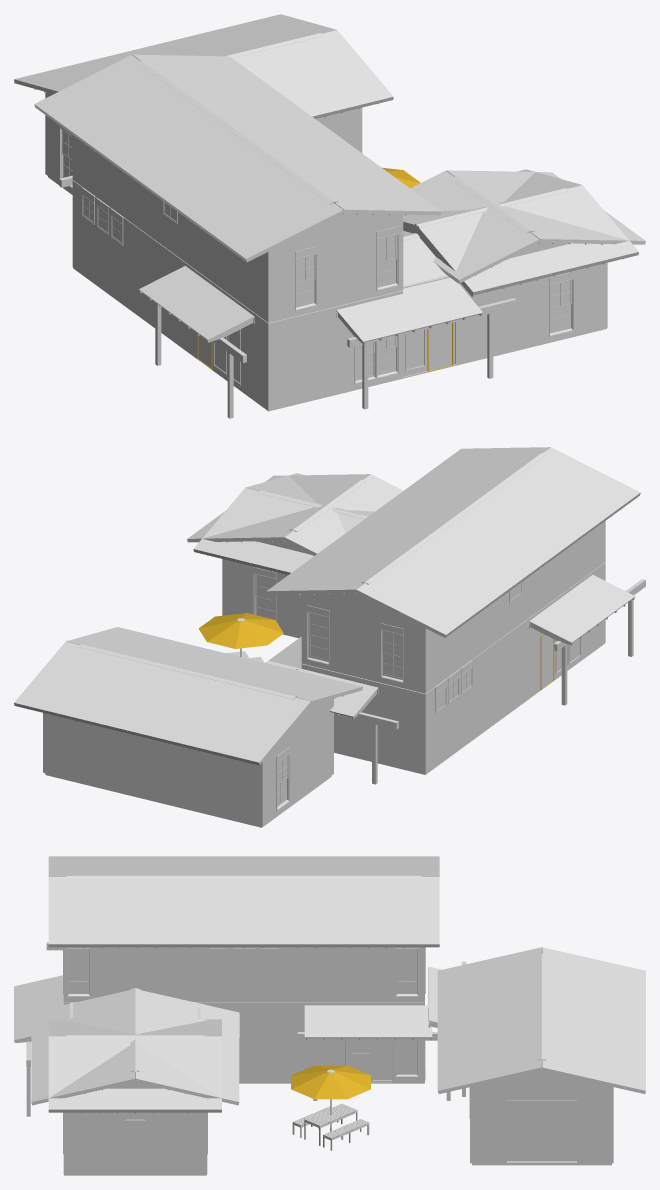
Rendered from house.glb.
3 views of the same model, one above another, from view 1: azimuth 30°, elevation 25°; view 2: azimuth 150°, elevation 25°; view 3: azimuth 270°, elevation 25° (orthographic). The views are drawn at different scales.
Visible parts, largest first — view 1: IfcRoof/Slab.002, IfcRoof/Slab.003, IfcCovering/Wall.062, IfcCovering/Wall.009, IfcRoof/Slab.001, IfcCovering/Wall.046, IfcCovering/Wall.053, IfcCovering/Wall.008, IfcCovering/Wall.044, IfcCovering/Wall.025, IfcRoof/Slab, IfcCovering/Wall.019 (+29 smaller); view 2: IfcCovering/Wall.060, IfcRoof/Slab.002, IfcRoof/Slab.012, IfcRoof/Slab.003, IfcRoof/Slab.013, IfcCovering/Wall.025, IfcCovering/Wall.010, IfcRoof/Slab.001, IfcCovering/Wall.044, IfcRoof/Slab, IfcCovering/Wall.017, IfcCovering/Wall.043 (+26 smaller); view 3: IfcCovering/Wall.011, IfcRoof/Slab.001, IfcRoof/Slab, IfcCovering/Wall.051, IfcCovering/Wall.061, IfcRoof/Slab.012, IfcRoof/Slab.011, IfcCovering/Wall.058, IfcRoof/Slab.014, IfcRoof/Slab.013, IfcRoof/Slab.018, IfcRoof/Slab.023 (+37 smaller).
Boxes of the visible parts, bbox=[...] form: IfcRoof/Slab.002: bbox=[76, 64, 330, 235]; IfcRoof/Slab.003: bbox=[34, 55, 343, 259]; IfcCovering/Wall.062: bbox=[73, 181, 268, 409]; IfcCovering/Wall.009: bbox=[268, 213, 403, 322]; IfcRoof/Slab.001: bbox=[148, 62, 399, 203]; IfcCovering/Wall.046: bbox=[268, 290, 402, 410]; IfcCovering/Wall.053: bbox=[456, 243, 607, 364]; IfcCovering/Wall.008: bbox=[72, 135, 268, 322]; IfcCovering/Wall.044: bbox=[73, 180, 268, 409]; IfcCovering/Wall.025: bbox=[73, 136, 268, 322]; IfcRoof/Slab: bbox=[132, 54, 441, 212]; IfcCovering/Wall.019: bbox=[456, 263, 607, 364]; IfcCovering/Wall.060: bbox=[43, 713, 262, 826]; IfcRoof/Slab.002: bbox=[366, 455, 601, 613]; IfcRoof/Slab.012: bbox=[47, 647, 293, 738]; IfcRoof/Slab.003: bbox=[356, 447, 640, 635]; IfcRoof/Slab.013: bbox=[14, 641, 310, 763]; IfcCovering/Wall.025: bbox=[425, 521, 605, 693]; IfcCovering/Wall.010: bbox=[301, 593, 425, 693]; IfcRoof/Slab.001: bbox=[305, 453, 535, 584]; IfcCovering/Wall.044: bbox=[425, 563, 605, 772]; IfcRoof/Slab: bbox=[266, 447, 550, 592]; IfcCovering/Wall.017: bbox=[262, 698, 333, 825]; IfcCovering/Wall.043: bbox=[301, 664, 425, 773]; IfcCovering/Wall.011: bbox=[63, 947, 424, 1001]; IfcRoof/Slab.001: bbox=[66, 879, 421, 921]; IfcRoof/Slab: bbox=[48, 877, 439, 945]; IfcCovering/Wall.051: bbox=[63, 1112, 207, 1174]; IfcCovering/Wall.061: bbox=[470, 1071, 613, 1163]; IfcRoof/Slab.012: bbox=[542, 956, 611, 1075]; IfcRoof/Slab.011: bbox=[472, 956, 541, 1075]; IfcCovering/Wall.058: bbox=[205, 1002, 424, 1082]; IfcRoof/Slab.014: bbox=[437, 947, 541, 1091]; IfcRoof/Slab.013: bbox=[542, 947, 645, 1091]; IfcRoof/Slab.018: bbox=[48, 1036, 221, 1110]; IfcRoof/Slab.023: bbox=[304, 1005, 432, 1038].
Bounding box in the file's own units: 15.2 × 6.78 × 21.68.
